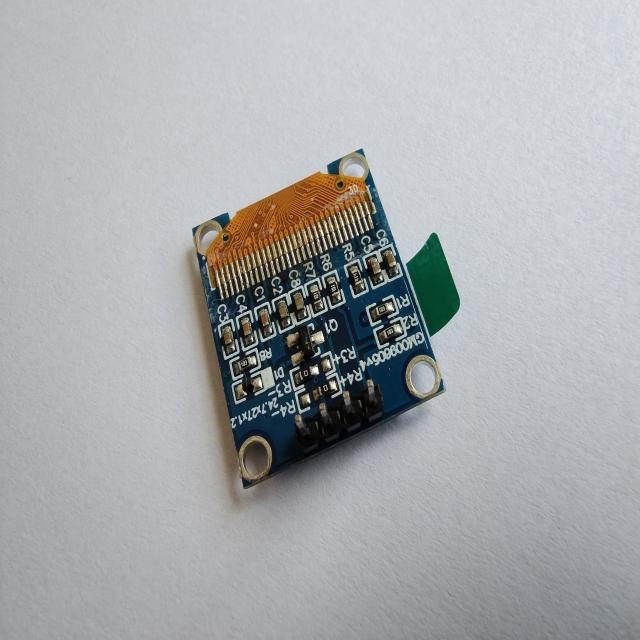oled: (200, 134, 462, 503)
